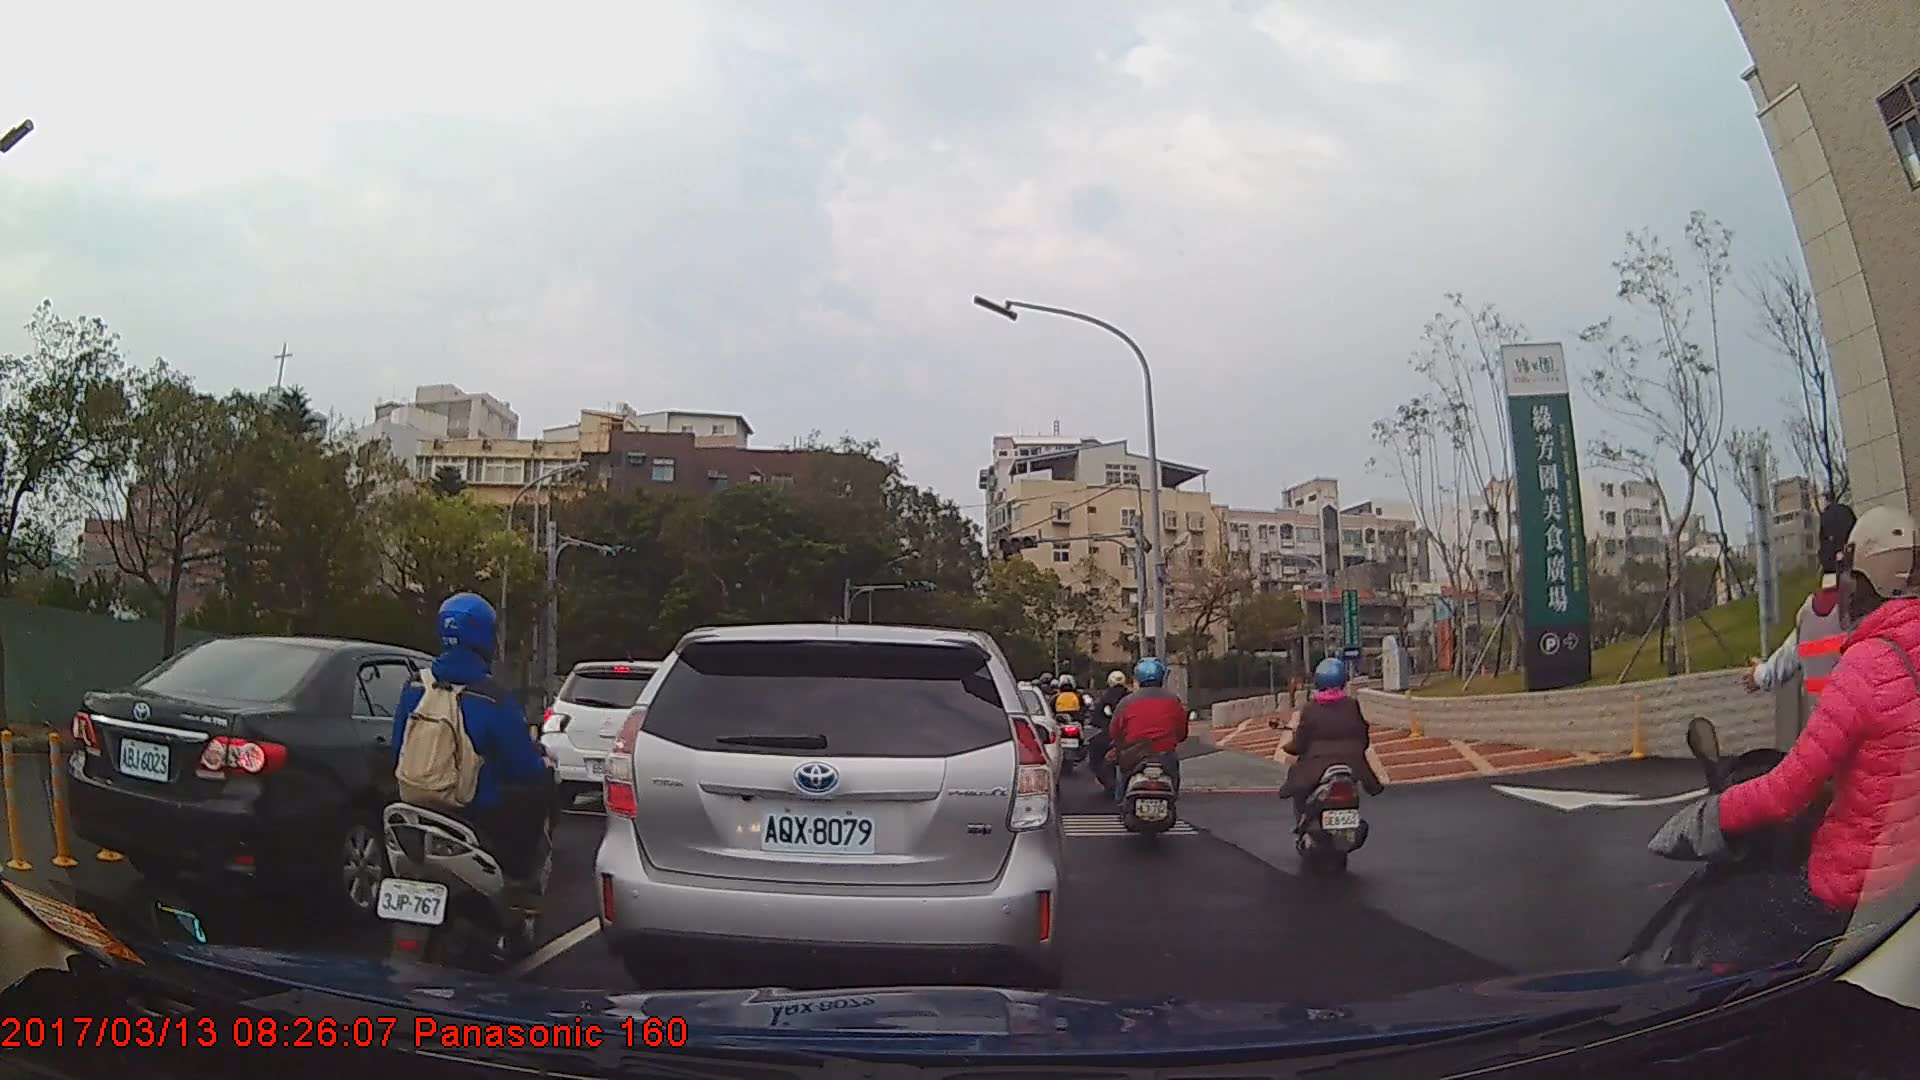rider: (1613, 503, 1920, 1080), (380, 589, 567, 1003), (1285, 651, 1374, 879), (1109, 655, 1193, 846), (1091, 669, 1141, 804), (1052, 670, 1088, 775)
vehicle: (593, 622, 1063, 996), (68, 633, 563, 913), (545, 660, 687, 806)
